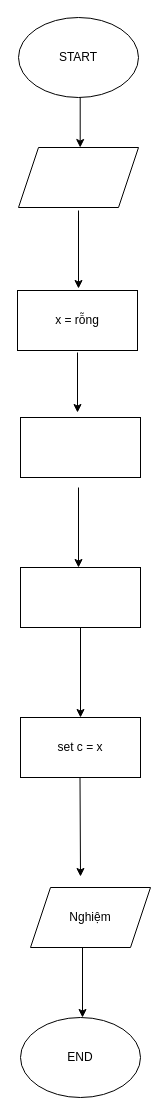
This 168x1115 diagram has some shape labels left out. The centre of each missing label's shape, as x and y in pixels:
"abc" goes at (78,177).
"set a = c" goes at (80,597).
"set x = a" goes at (80,447).
